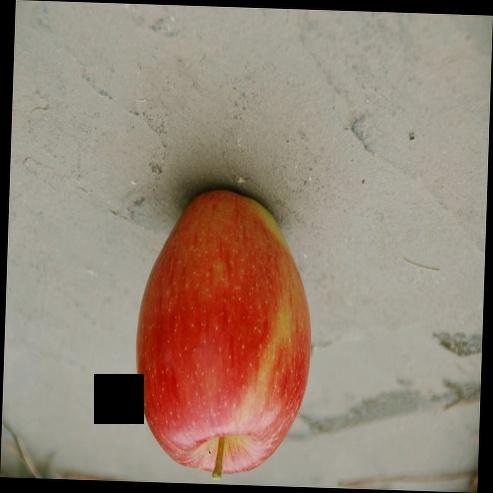red apple: (136, 191, 312, 478)
